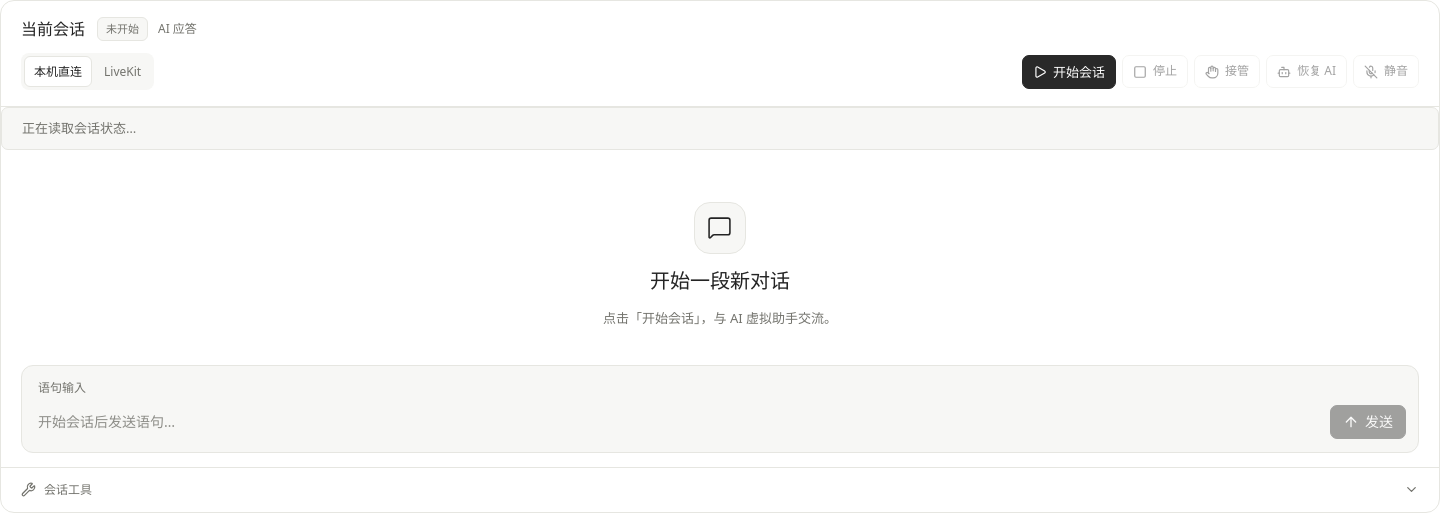
Scenario: WorkspaceSession › surfaces blocked preflight issues and start field errors
The width and height of the screenshot is (1440, 530).
Click the button "开始会话" at (1069, 72), box [1022,54,1116,89]
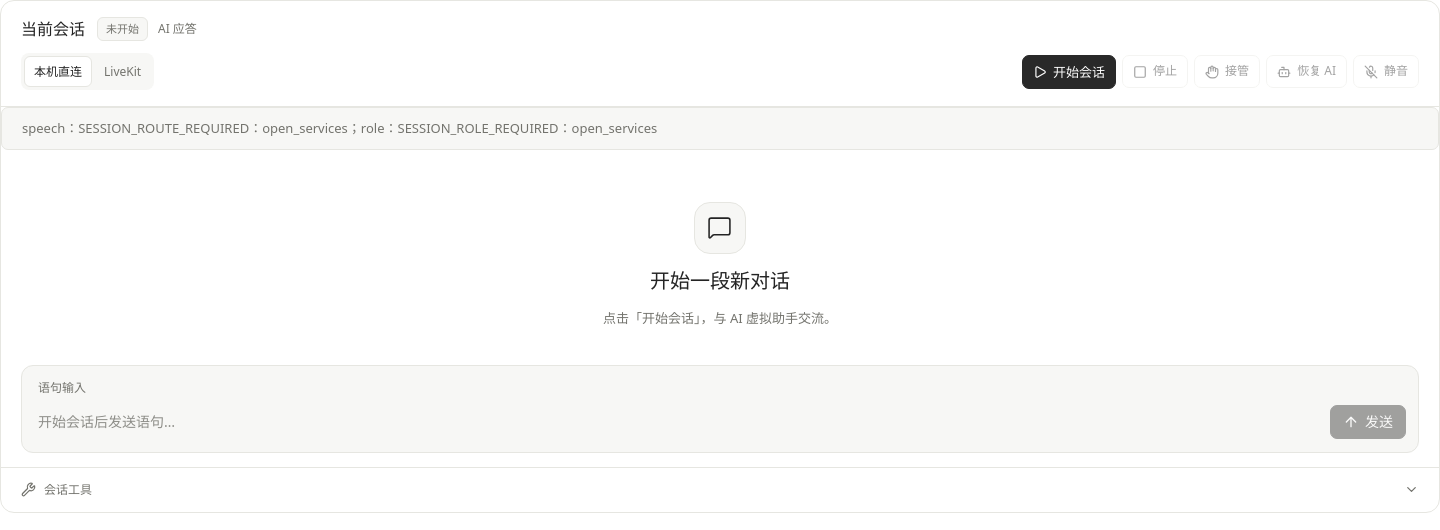
Now the message shows "speech：SESSION_ROUTE_REQUIRED：open_services", box [22,119,657,137]
Now the message shows "role：SESSION_ROLE_REQUIRED：open_services", box [22,119,657,137]
Click the button "开始会话" at (1069, 72), box [1022,54,1116,89]
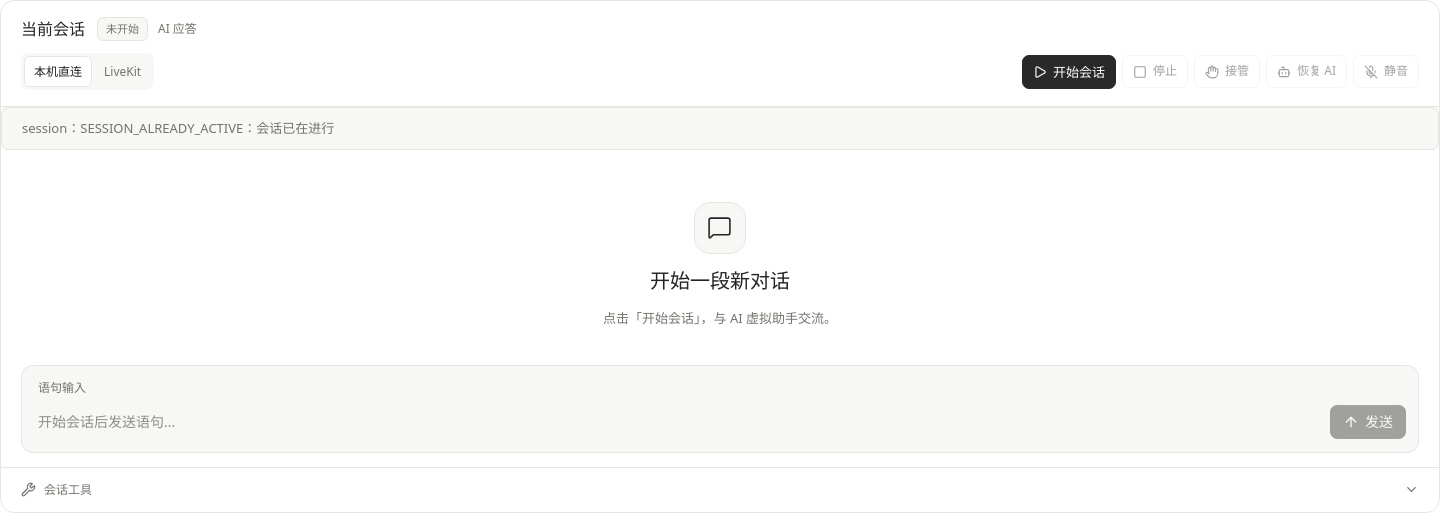
Now the message reads "session：SESSION_ALREADY_ACTIVE：会话已在进行", box [22,119,334,137]
